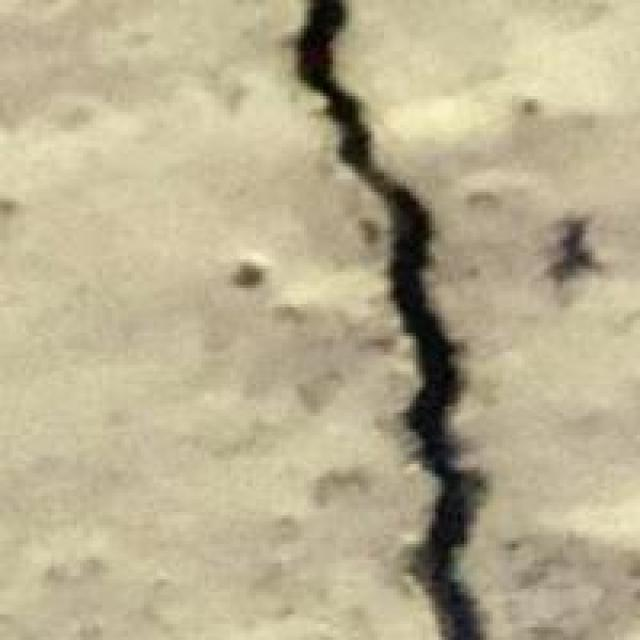crack: (284, 0, 554, 637)
